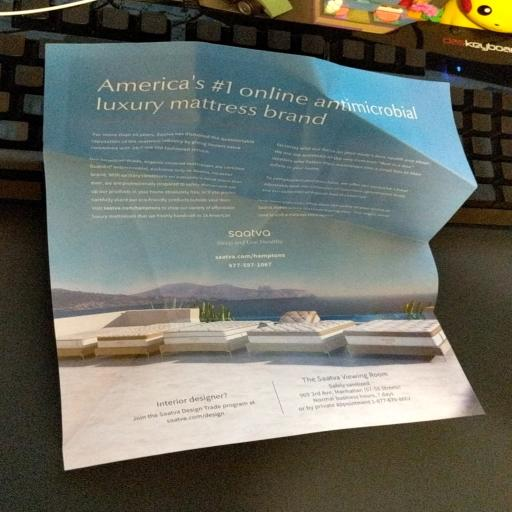paper: (18, 20, 505, 472)
